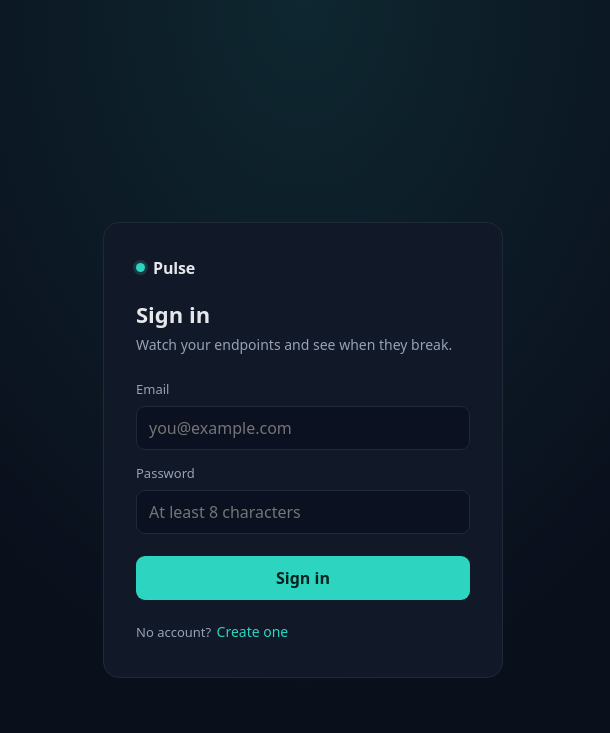
Test: Login › shows the API error message on bad credentials
Type "dev@example.com" into the field labelled "Email".
click(303, 428); type("dev@example.com")  # box [136, 406, 470, 450]
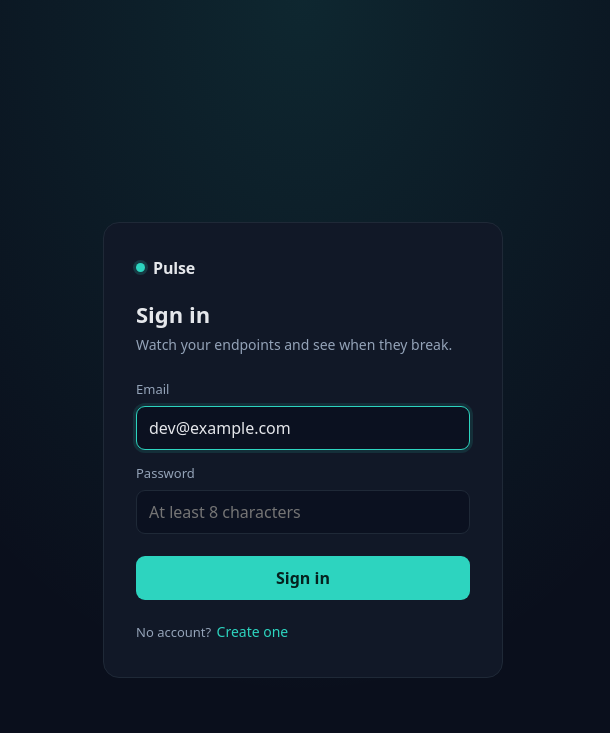
Type "wrong-password" into the password field labelled "Password".
click(303, 512); type("wrong-password")  # box [136, 490, 470, 534]
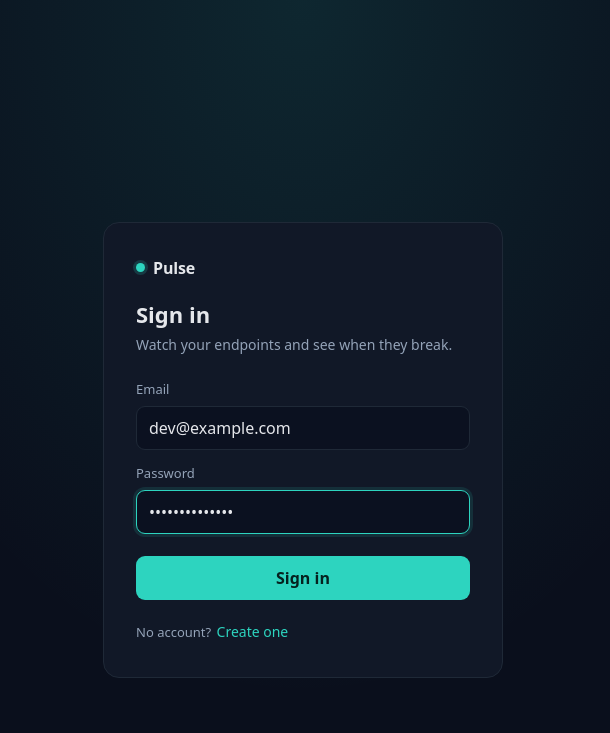
Click the button "Sign in".
click(303, 578)  # box [136, 556, 470, 600]
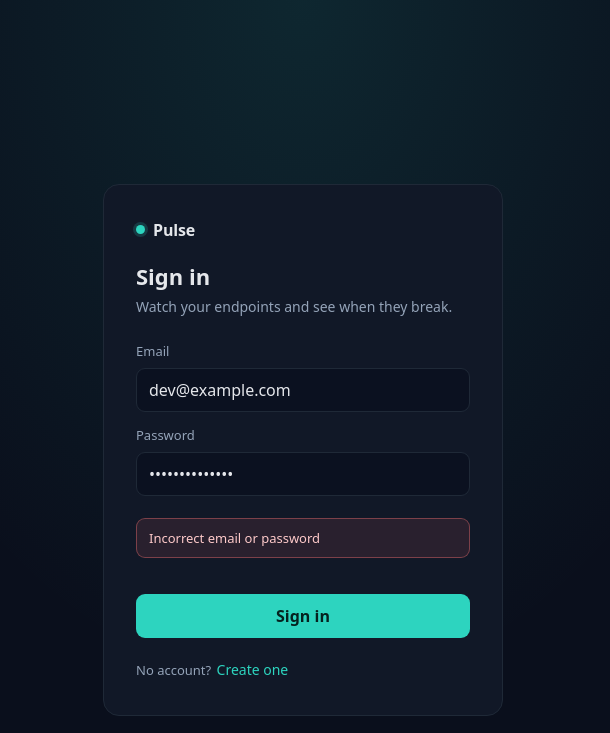
Check: the message reads "Incorrect email or password", box [149, 529, 320, 547]
